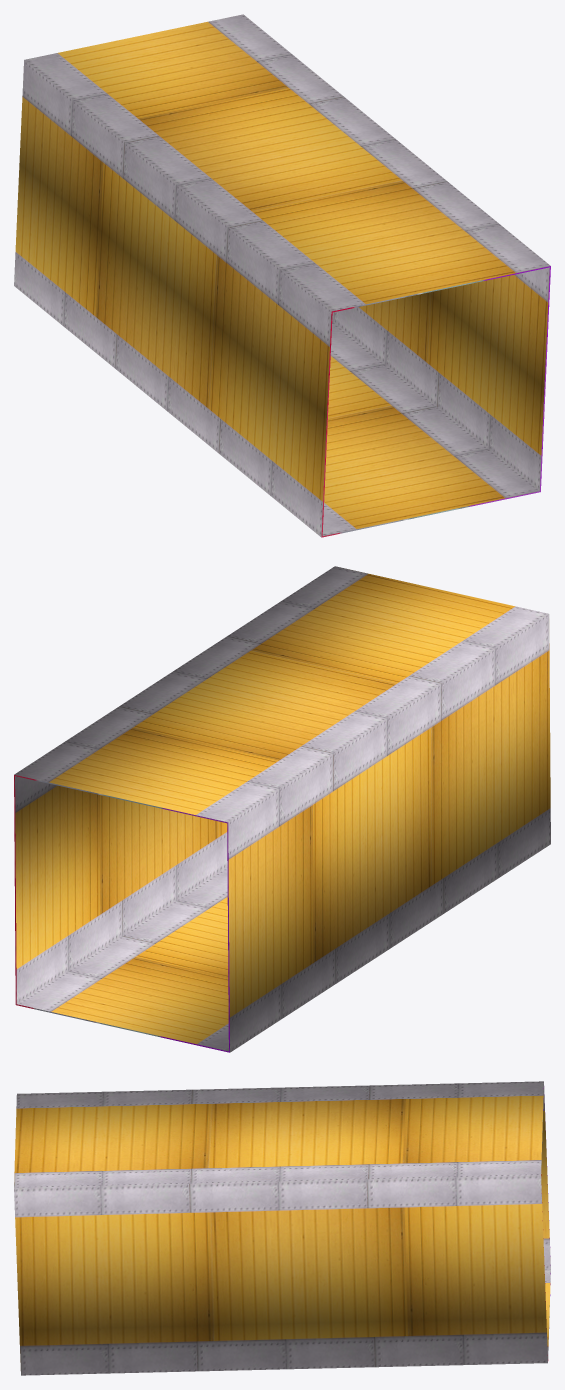
3 renders of one model, top to bottom at view 1: azimuth 30°, elevation 25°; view 2: azimuth 150°, elevation 25°; view 3: azimuth 270°, elevation 25°, orthographic. The views are drawn at different scales.
Visible parts, largest first — view 1: Tube003; view 2: Tube003; view 3: Tube003.
Boxes of the visible parts, box(x1,y1,x2,y2) form: Tube003: box(14, 14, 550, 537); Tube003: box(14, 566, 550, 1052); Tube003: box(14, 1081, 550, 1375).
Size of the model in its own units: 7.59 by 7.92 by 18.26.
1 material, 1 textured.
